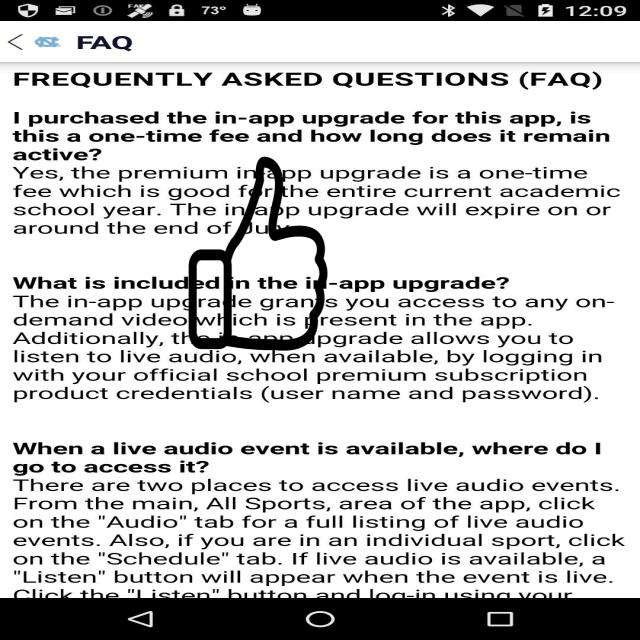privacy zuckering: (186, 157, 330, 350)
